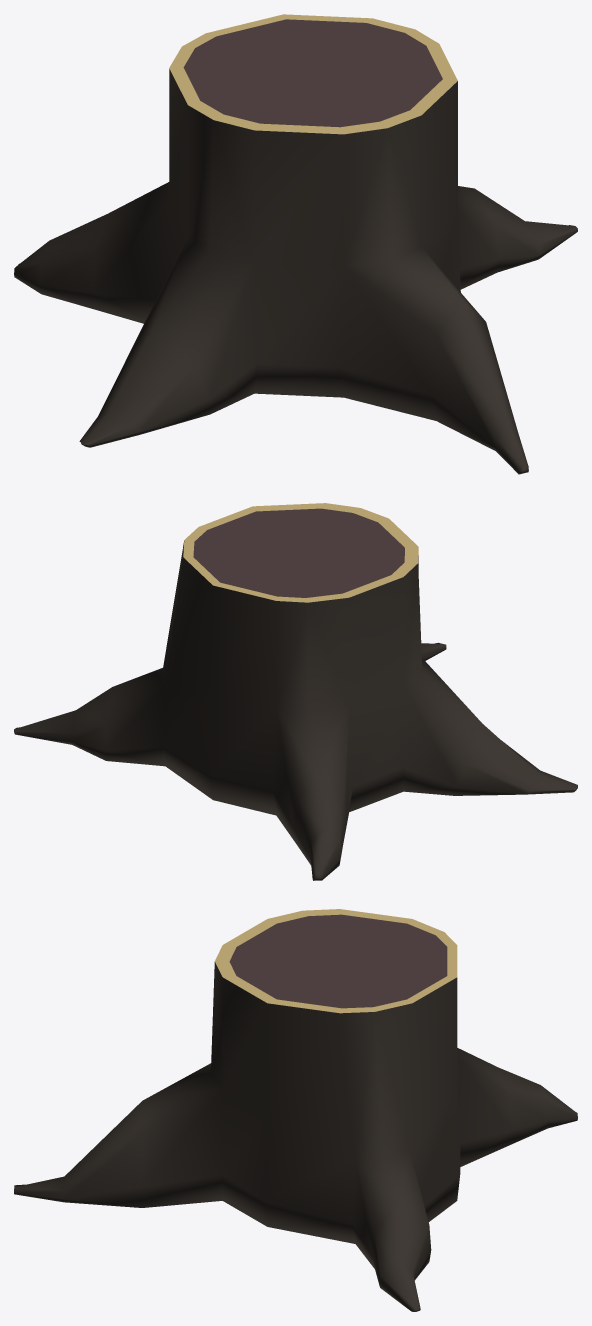
The model's file is Deco_Stump.fbx.
3 renders of one model, top to bottom at view 1: azimuth 30°, elevation 25°; view 2: azimuth 150°, elevation 25°; view 3: azimuth 270°, elevation 25°, orthographic. The views are drawn at different scales.
Parts seen in each view (by area): view 1: polySurface8; view 2: polySurface8; view 3: polySurface8.
Boxes of the visible parts, x1,y1,x2,y2 form: polySurface8: (14,14,577,474); polySurface8: (14,503,577,880); polySurface8: (14,909,577,1311).
Bounding box in the file's own units: 47.12 × 20 × 45.72.
